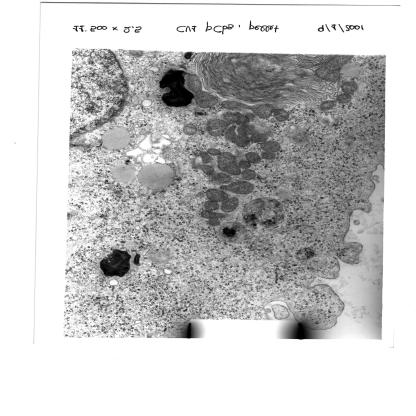mitochondria: (315, 55, 354, 83), (186, 74, 218, 108), (221, 100, 273, 118), (216, 152, 241, 176), (225, 124, 250, 146), (228, 181, 255, 195), (206, 119, 228, 136), (222, 113, 251, 124), (220, 196, 239, 212), (205, 189, 229, 201), (200, 210, 228, 219), (211, 173, 233, 184), (260, 141, 281, 152), (272, 108, 288, 122), (340, 81, 358, 93), (240, 169, 257, 181), (335, 93, 353, 104), (238, 124, 256, 135), (319, 100, 338, 110), (250, 133, 269, 143), (183, 123, 197, 136), (196, 164, 214, 174), (246, 152, 262, 163), (200, 151, 212, 164), (204, 201, 220, 210), (238, 160, 251, 170), (261, 152, 277, 160), (207, 148, 220, 155), (208, 219, 220, 226)
